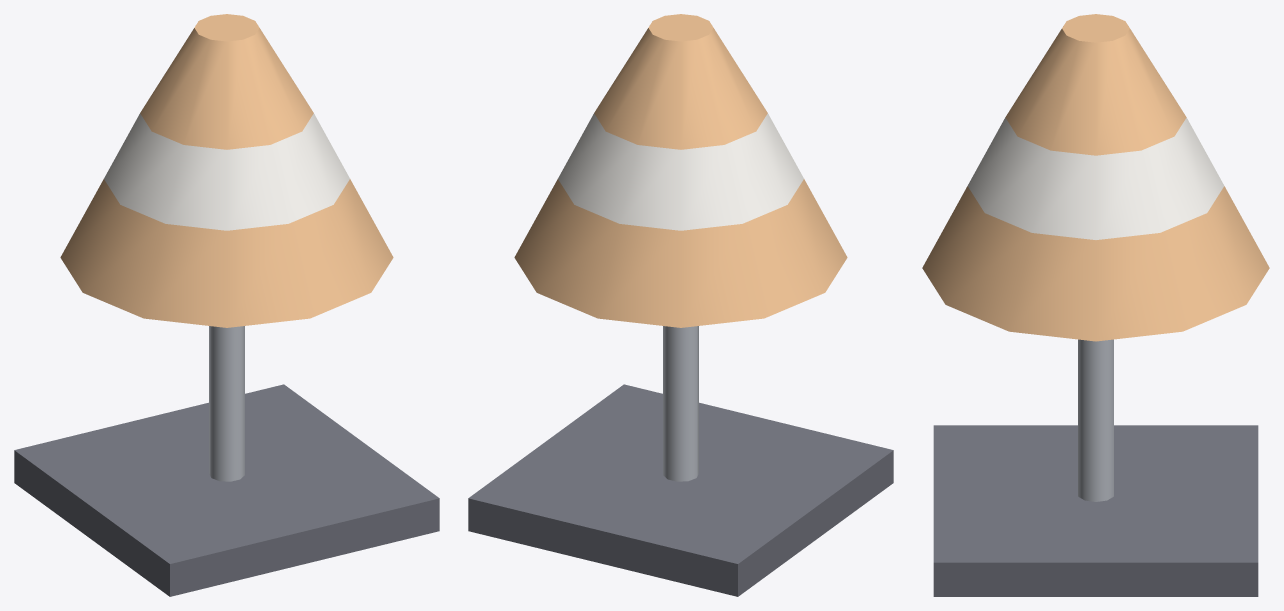
File: 19_lampara_cono.glb
The picture shows the model from 3 angles, left to right: view 1: azimuth 30°, elevation 25°; view 2: azimuth 150°, elevation 25°; view 3: azimuth 270°, elevation 25°; orthographic projection. The views are drawn at different scales.
Parts seen in each view (by area): view 1: body (×4); view 2: body (×4); view 3: body (×4).
Boxes of the visible parts, left/top/right/bottom form: body (×4): left=14, top=14, right=439, bottom=596; body (×4): left=468, top=14, right=893, bottom=596; body (×4): left=922, top=14, right=1269, bottom=596.
Bounding box in the file's own units: 0.46 × 0.73 × 0.46.
